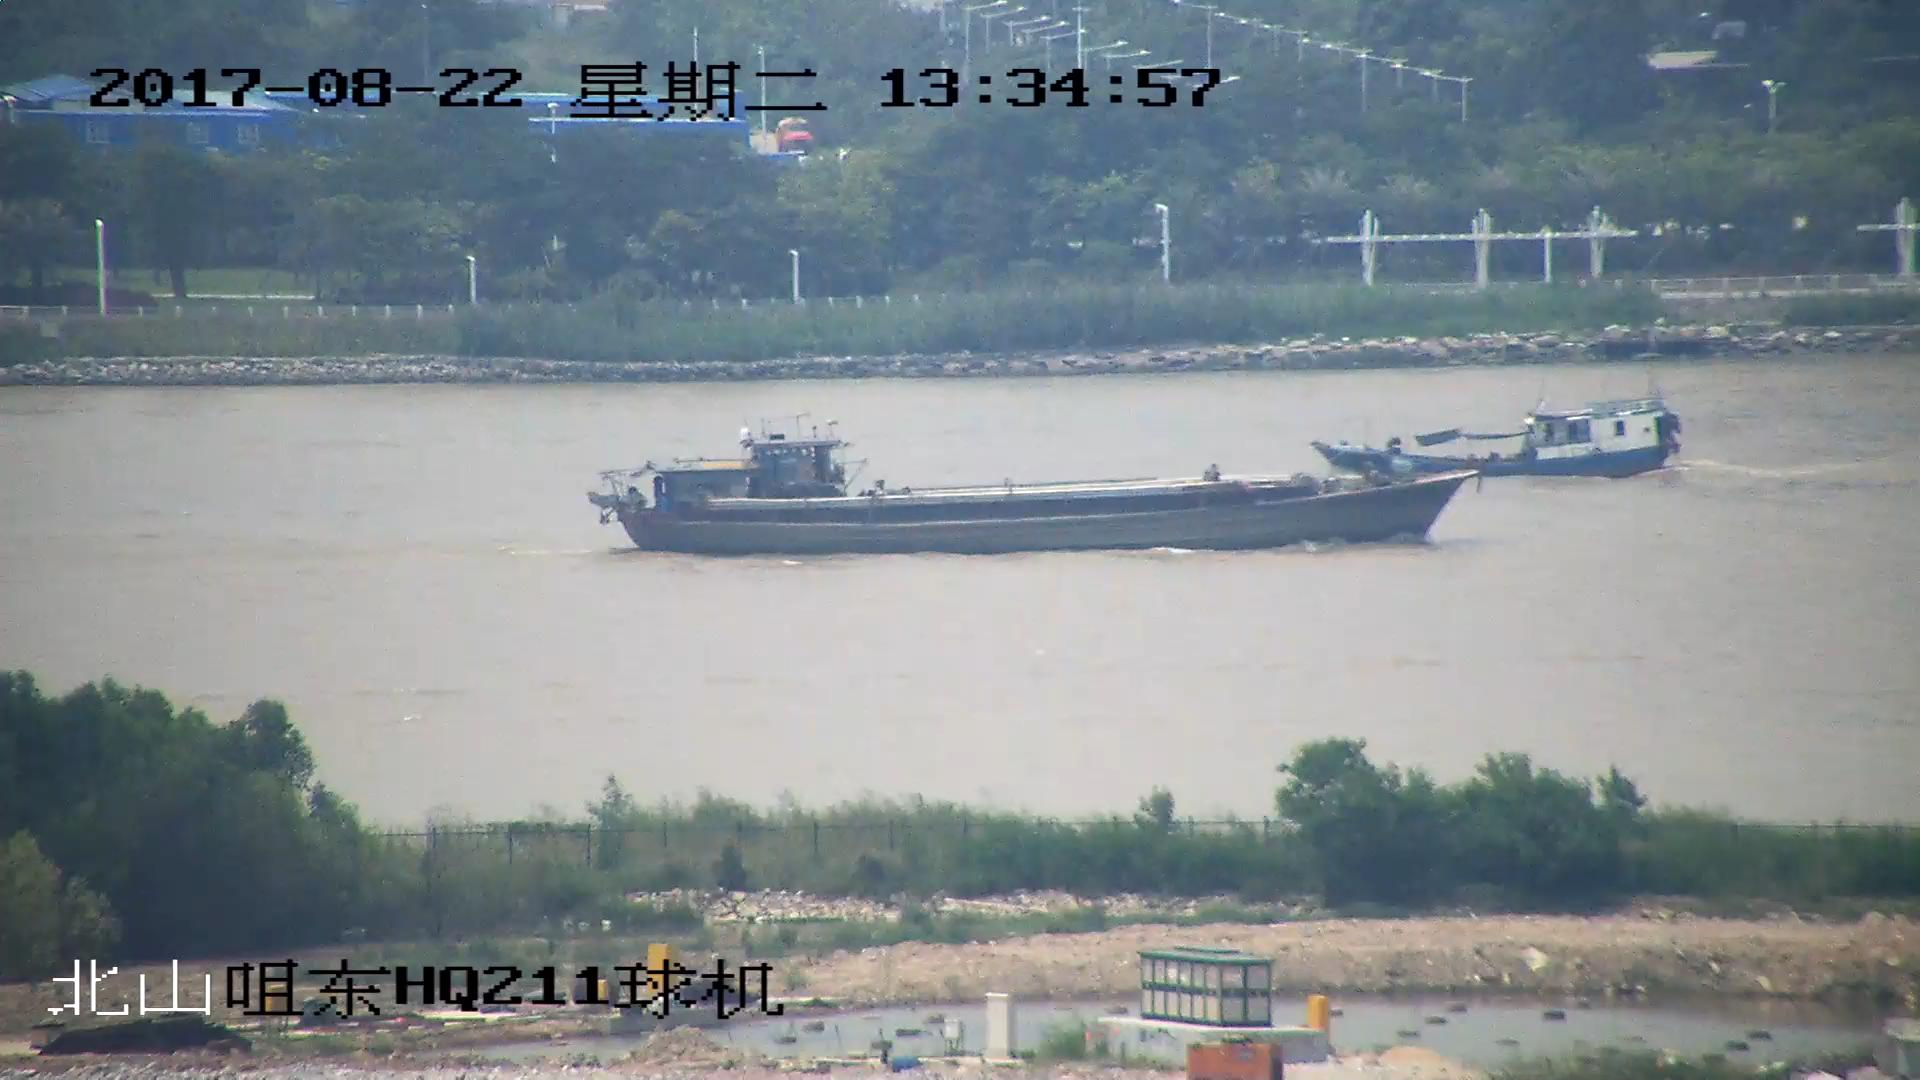bulk cargo carrier: (593, 429, 1480, 554)
fishing boat: (1325, 390, 1685, 482)
